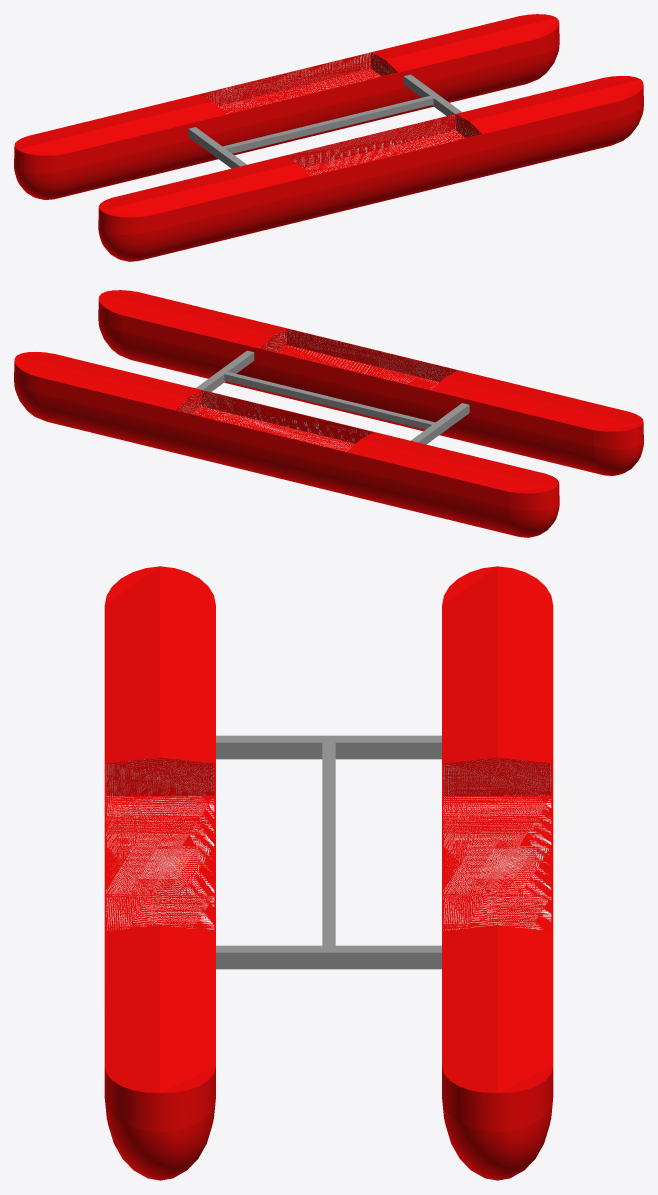
File: Boat.dae
The picture shows the model from 3 angles, top to bottom: view 1: azimuth 30°, elevation 25°; view 2: azimuth 150°, elevation 25°; view 3: azimuth 270°, elevation 25°; orthographic projection. The views are drawn at different scales.
Parts seen in each view (by area): view 1: instance_2; view 2: instance_2; view 3: instance_2.
Part boxes in pixels (box(x1,y1,x2,y2)): instance_2: box(14, 14, 643, 261); instance_2: box(14, 290, 643, 537); instance_2: box(104, 566, 553, 1180).
Bounding box in the file's own units: 3.15 × 1.13 × 0.3165.
